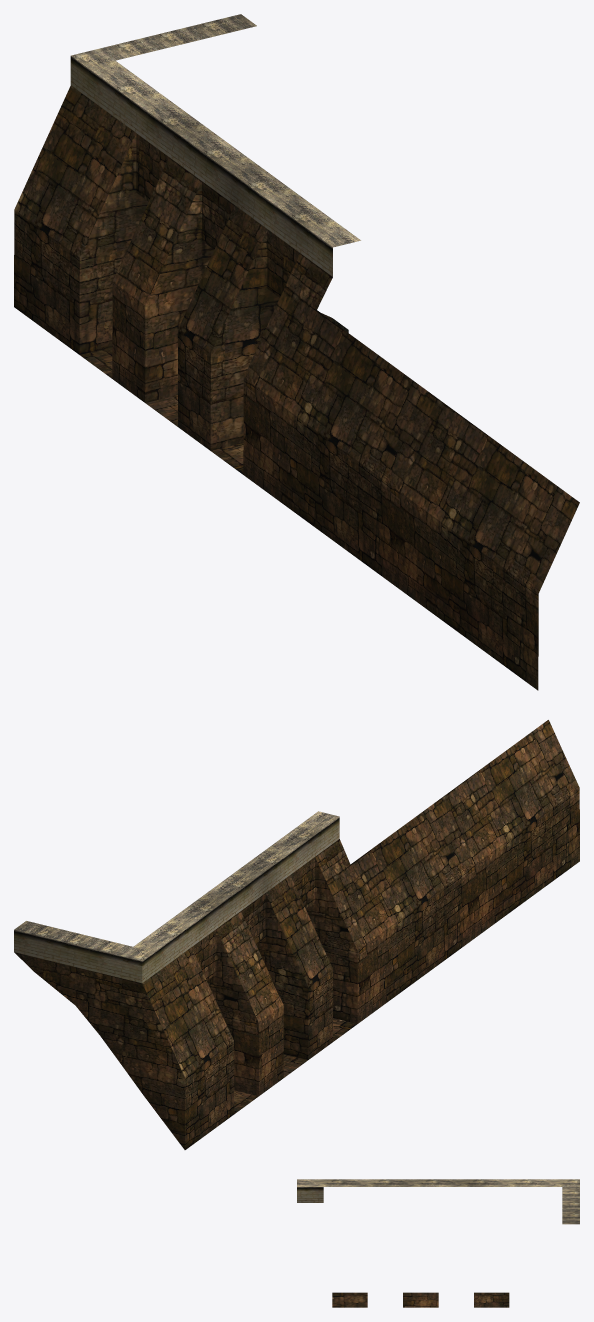
File: M10_Z01_20_WallB.glb
3 renders of one model, top to bottom at view 1: azimuth 30°, elevation 25°; view 2: azimuth 150°, elevation 25°; view 3: azimuth 270°, elevation 25°, orthographic. The views are drawn at different scales.
Visible parts, largest first — view 1: M10_Z01_20_WALLB; view 2: M10_Z01_20_WALLB; view 3: M10_Z01_20_WALLB.
Boxes of the visible parts, x1,y1,x2,y2 form: M10_Z01_20_WALLB: [14, 14, 579, 690]; M10_Z01_20_WALLB: [14, 720, 579, 1149]; M10_Z01_20_WALLB: [297, 1179, 579, 1307].
Size of the model in its own units: 8 by 8 by 32.
4 materials, 4 textured.
